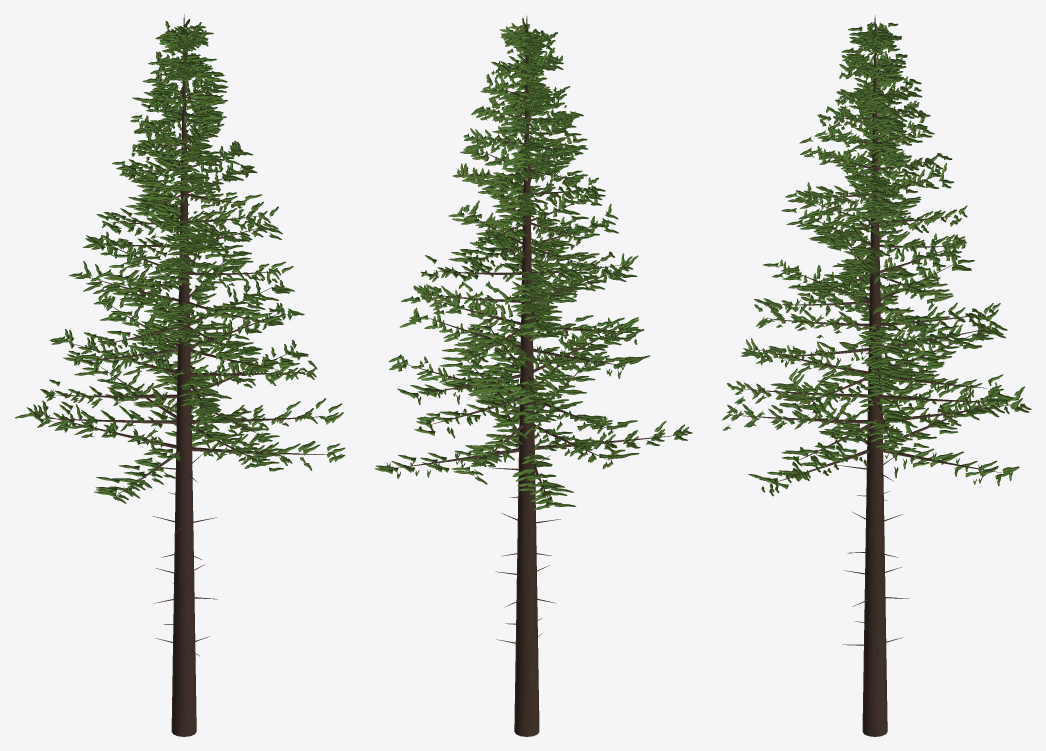
Rendered from SM_Tree_larch_1.glb.
3 renders of one model, left to right at view 1: azimuth 30°, elevation 25°; view 2: azimuth 150°, elevation 25°; view 3: azimuth 270°, elevation 25°, orthographic.
Parts seen in each view (by area): view 1: SM_Tree_larch_1; view 2: SM_Tree_larch_1; view 3: SM_Tree_larch_1.
Boxes of the visible parts, x1,y1,x2,y2 form: SM_Tree_larch_1: [14, 14, 345, 736]; SM_Tree_larch_1: [374, 15, 692, 736]; SM_Tree_larch_1: [721, 15, 1031, 736].
Size of the model in its own units: 6.88 by 18.35 by 7.19.
